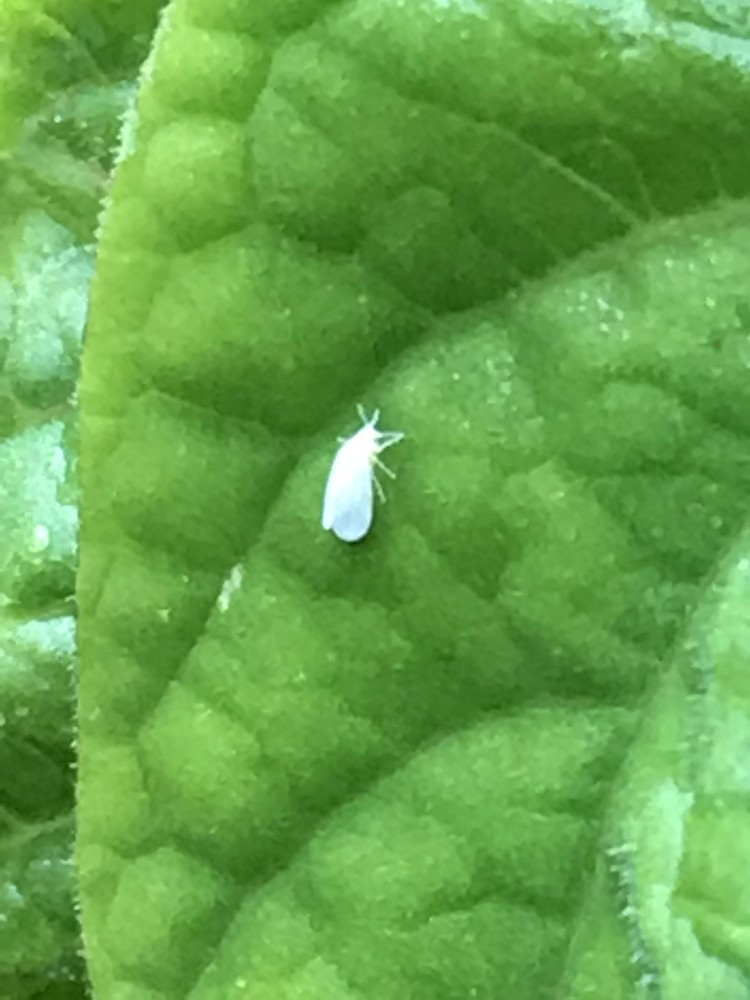Mosca Blanca: (281, 386, 442, 562)
